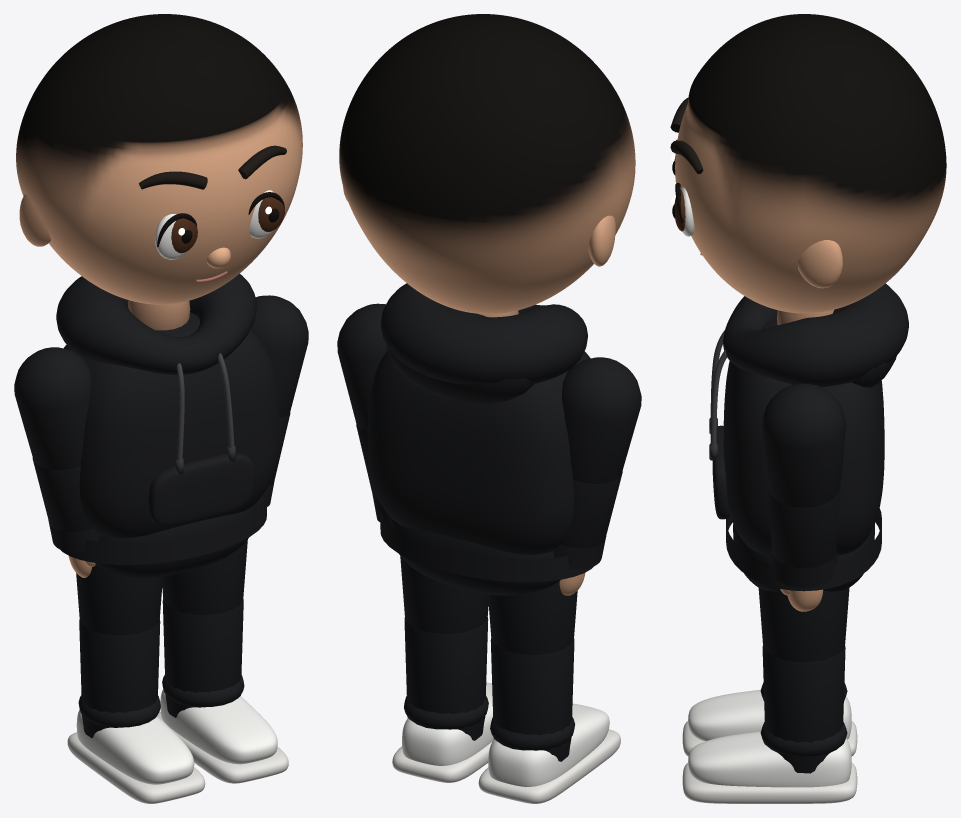
File: hero-aipollon.glb
3 views of the same model, side by side, from view 1: azimuth 30°, elevation 25°; view 2: azimuth 150°, elevation 25°; view 3: azimuth 270°, elevation 25° (orthographic). The views are drawn at different scales.
Parts seen in each view (by area): view 1: Hero_head, Hero_torso, Hero_collar, Hero_upperR, Hero_shinR, Hero_shinL, Hero_pocket, Hero_shoeR, Hero_shoeL, Hero_thighR, Hero_hem, Hero_upperL (+17 smaller); view 2: Hero_head, Hero_torso, Hero_collar, Hero_upperR, Hero_shinL, Hero_shinR, Hero_thighR, Hero_hem, Hero_shoeR, Hero_thighL, Hero_upperL, Hero_pelvis (+9 smaller); view 3: Hero_head, Hero_torso, Hero_collar, Hero_upperL, Hero_shinL, Hero_shoeL, Hero_thighL, Hero_foreL, Hero_soleL, Hero_shoeR, Hero_hem, Hero_earL (+8 smaller).
Boxes of the visible parts, x1,y1,x2,y2 form: Hero_head: (16,14,302,304); Hero_torso: (63,312,279,538); Hero_collar: (56,273,256,374); Hero_upperR: (14,347,91,469); Hero_shinR: (79,619,160,738); Hero_shinL: (162,598,243,717); Hero_pocket: (148,453,254,526); Hero_shoeR: (76,710,194,784); Hero_shoeL: (160,689,277,764); Hero_thighR: (76,565,162,635); Hero_hem: (61,498,266,564); Hero_upperL: (250,295,308,417); Hero_head: (339,14,635,314); Hero_torso: (367,350,590,554); Hero_collar: (380,283,587,383); Hero_upperR: (562,357,641,483); Hero_shinL: (404,617,488,740); Hero_shinR: (490,638,574,761); Hero_thighR: (488,581,577,654); Hero_hem: (380,512,593,582); Hero_shoeR: (488,703,609,786); Hero_thighL: (400,556,488,633); Hero_upperL: (337,303,386,429); Hero_pelvis: (390,517,560,595); Hero_head: (675,14,946,313); Hero_torso: (723,316,884,555); Hero_collar: (723,283,908,386); Hero_upperL: (762,383,845,507); Hero_shinL: (762,645,845,773); Hero_shoeL: (688,731,851,787); Hero_thighL: (758,587,849,661); Hero_foreL: (768,490,839,567); Hero_soleL: (682,763,857,803); Hero_shoeR: (688,689,851,741); Hero_hem: (726,508,881,591); Hero_earL: (798,240,842,288).
Bounding box in the file's own units: 0.6772 × 1.66 × 0.559.
